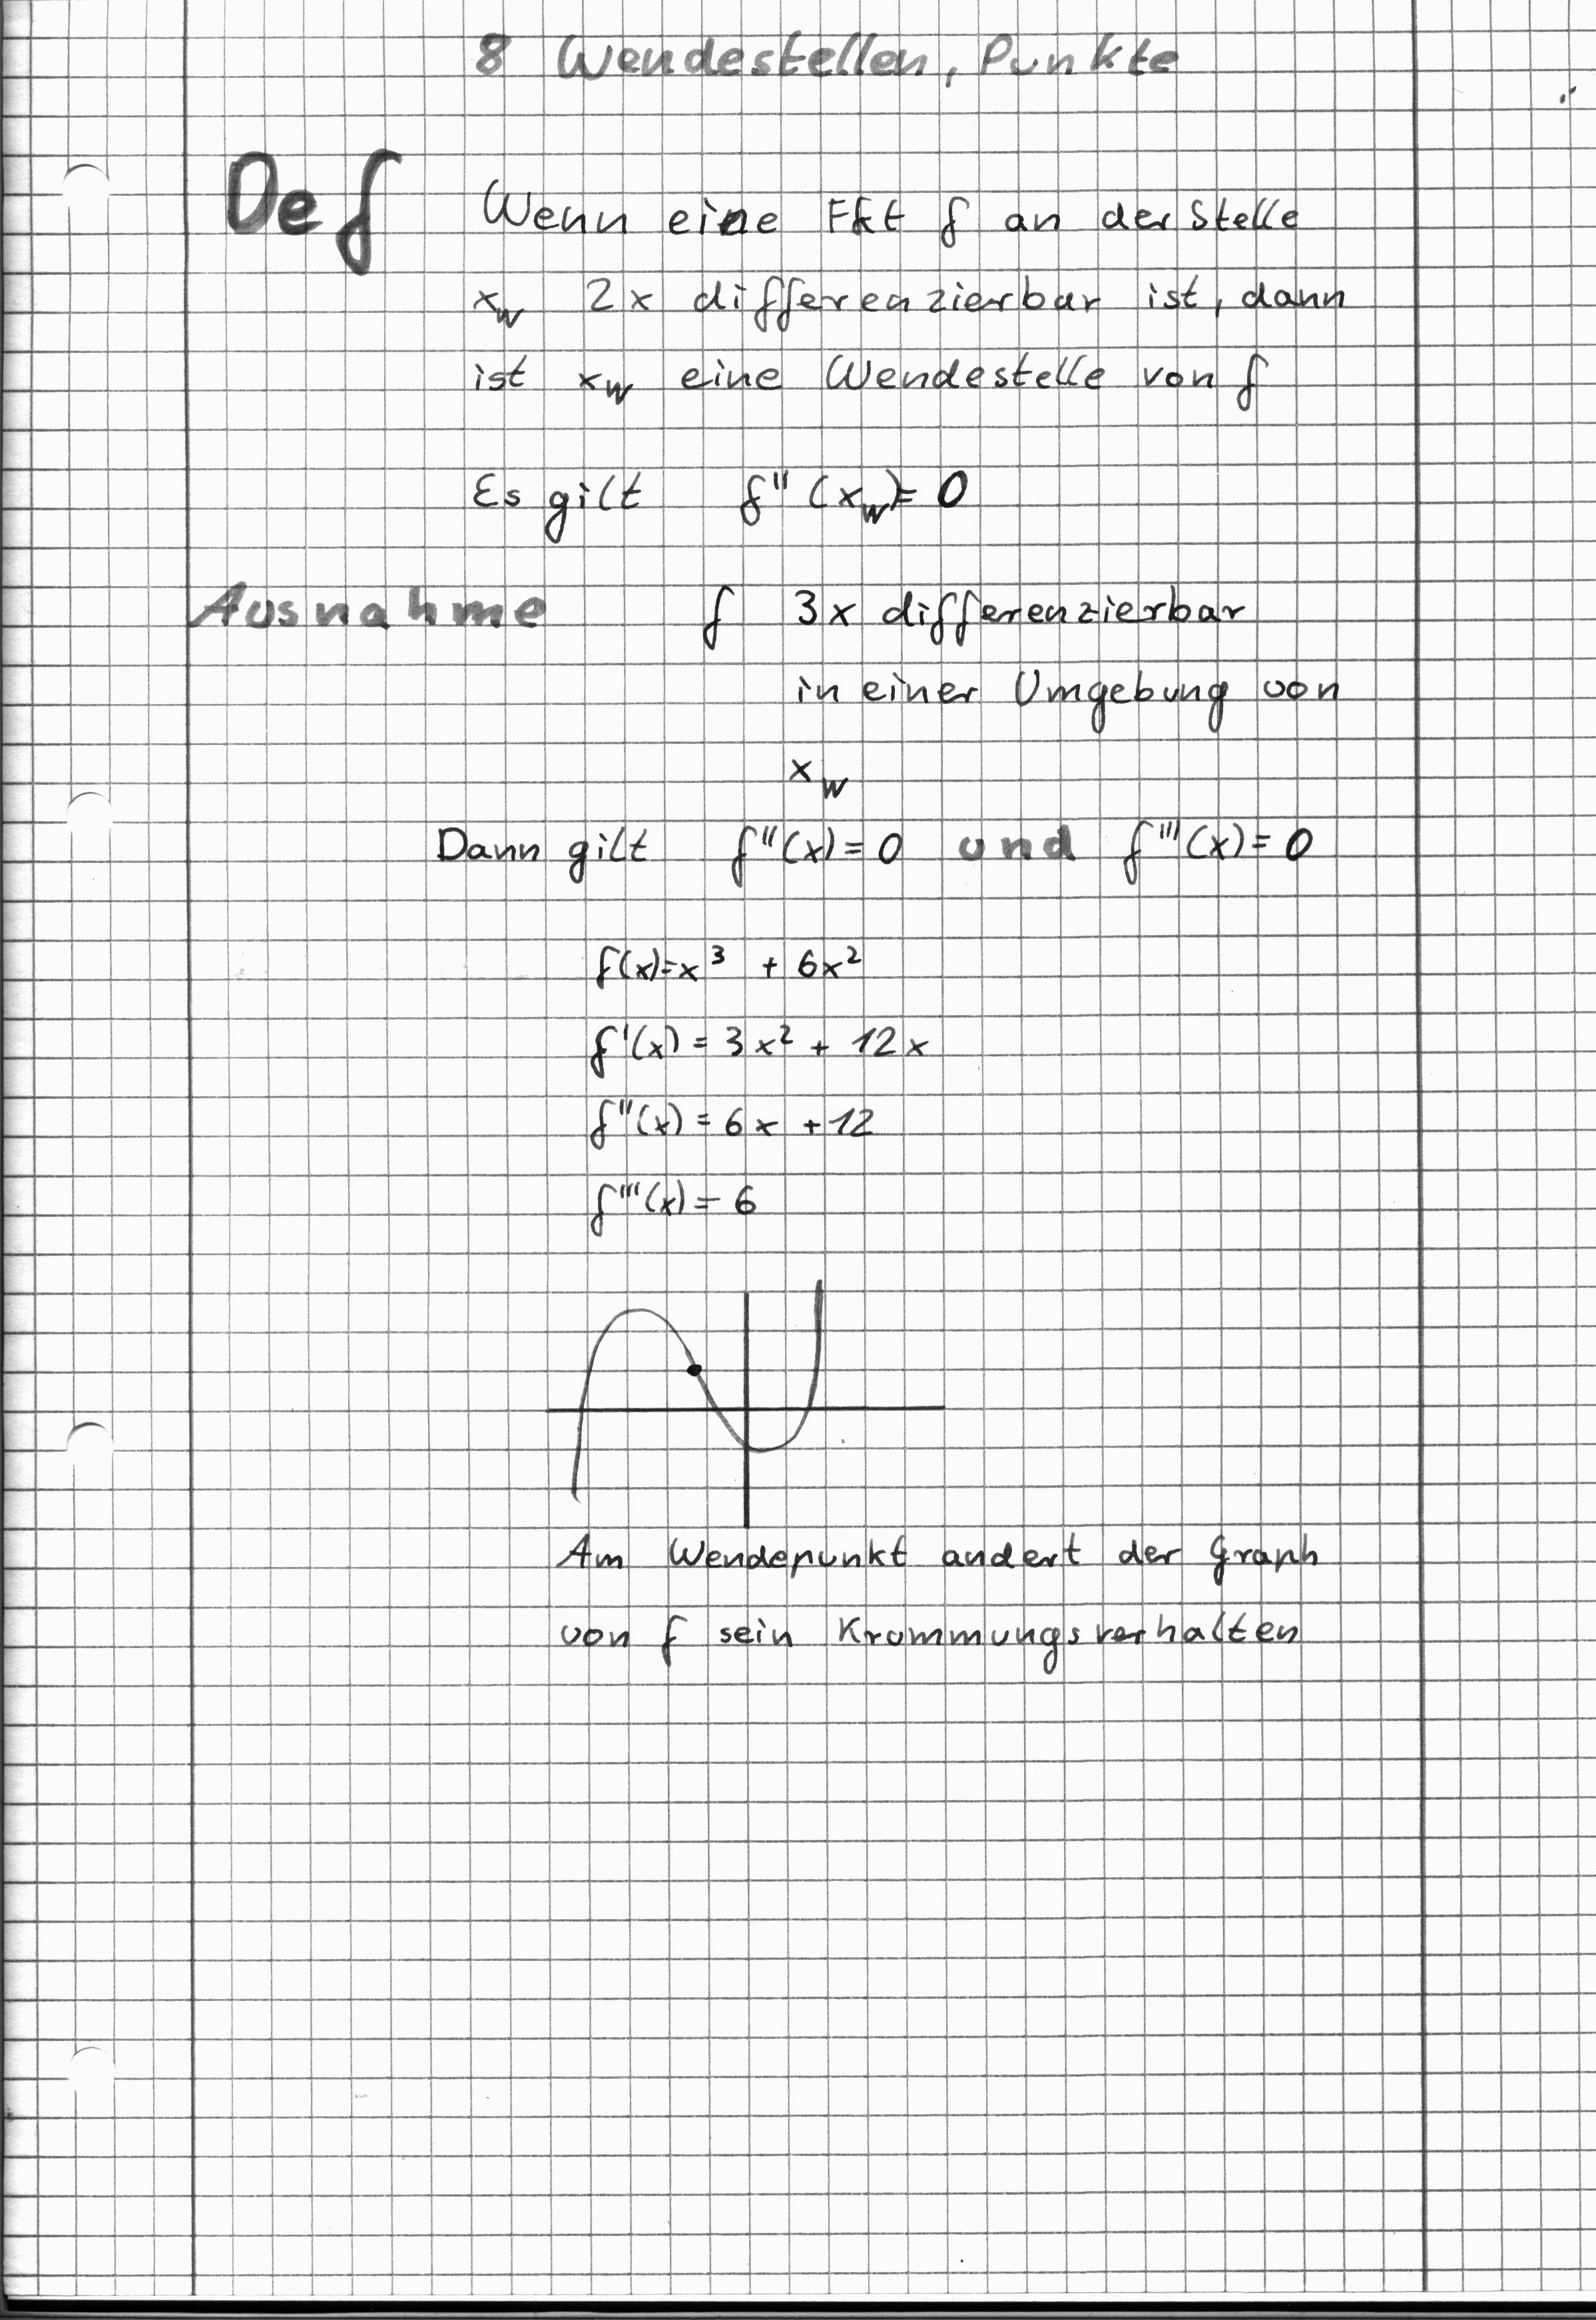word: (459, 162, 1356, 416), (544, 1516, 1336, 1685), (780, 570, 1348, 745), (575, 926, 936, 1157), (725, 442, 977, 543), (424, 801, 666, 902), (567, 1157, 800, 1262), (461, 444, 663, 558)
